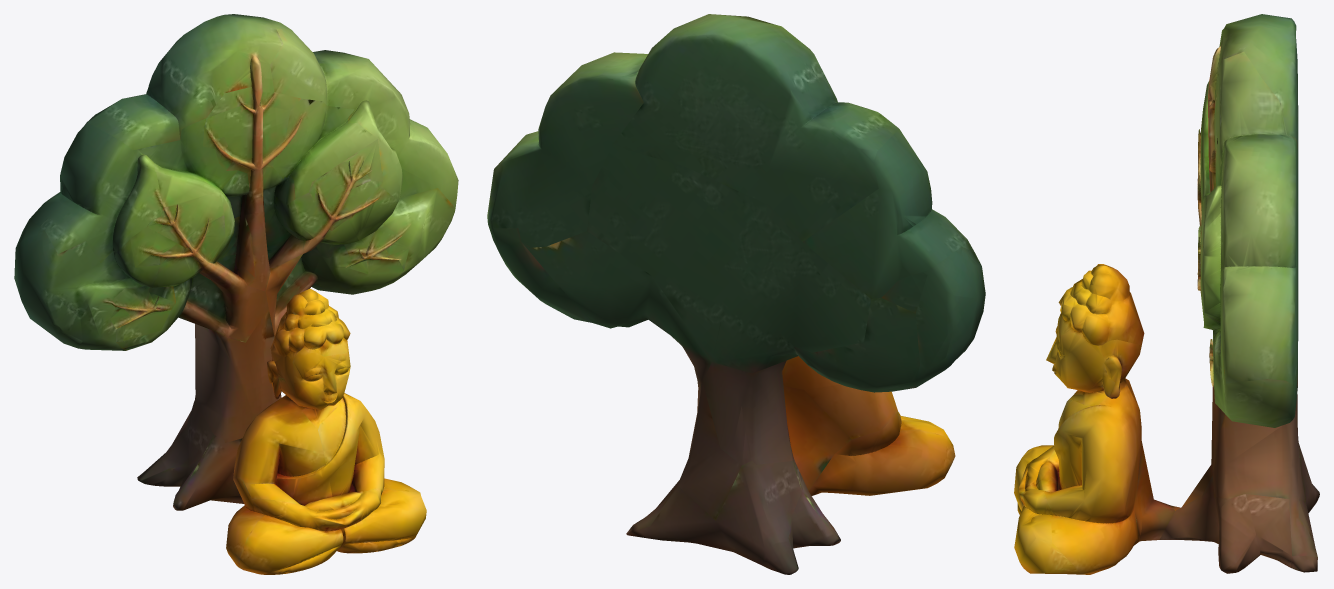
Rendered from buddha_bodhi_pbr.glb.
3 views of the same model, side by side, from view 1: azimuth 30°, elevation 25°; view 2: azimuth 150°, elevation 25°; view 3: azimuth 270°, elevation 25° (orthographic). The views are drawn at different scales.
Parts seen in each view (by area): view 1: model.001; view 2: model.001; view 3: model.001.
Part boxes in pixels (x1,y1,x2,y2): model.001: [14, 14, 458, 574]; model.001: [487, 14, 985, 574]; model.001: [1014, 14, 1319, 574].
Bounding box in the file's own units: 1.69 × 1.74 × 0.9441.
1 material, 1 textured.
